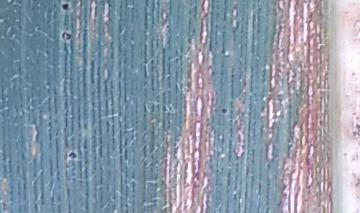tarspot: (59, 29, 71, 41), (67, 150, 78, 160), (61, 2, 69, 11), (220, 106, 228, 114)
